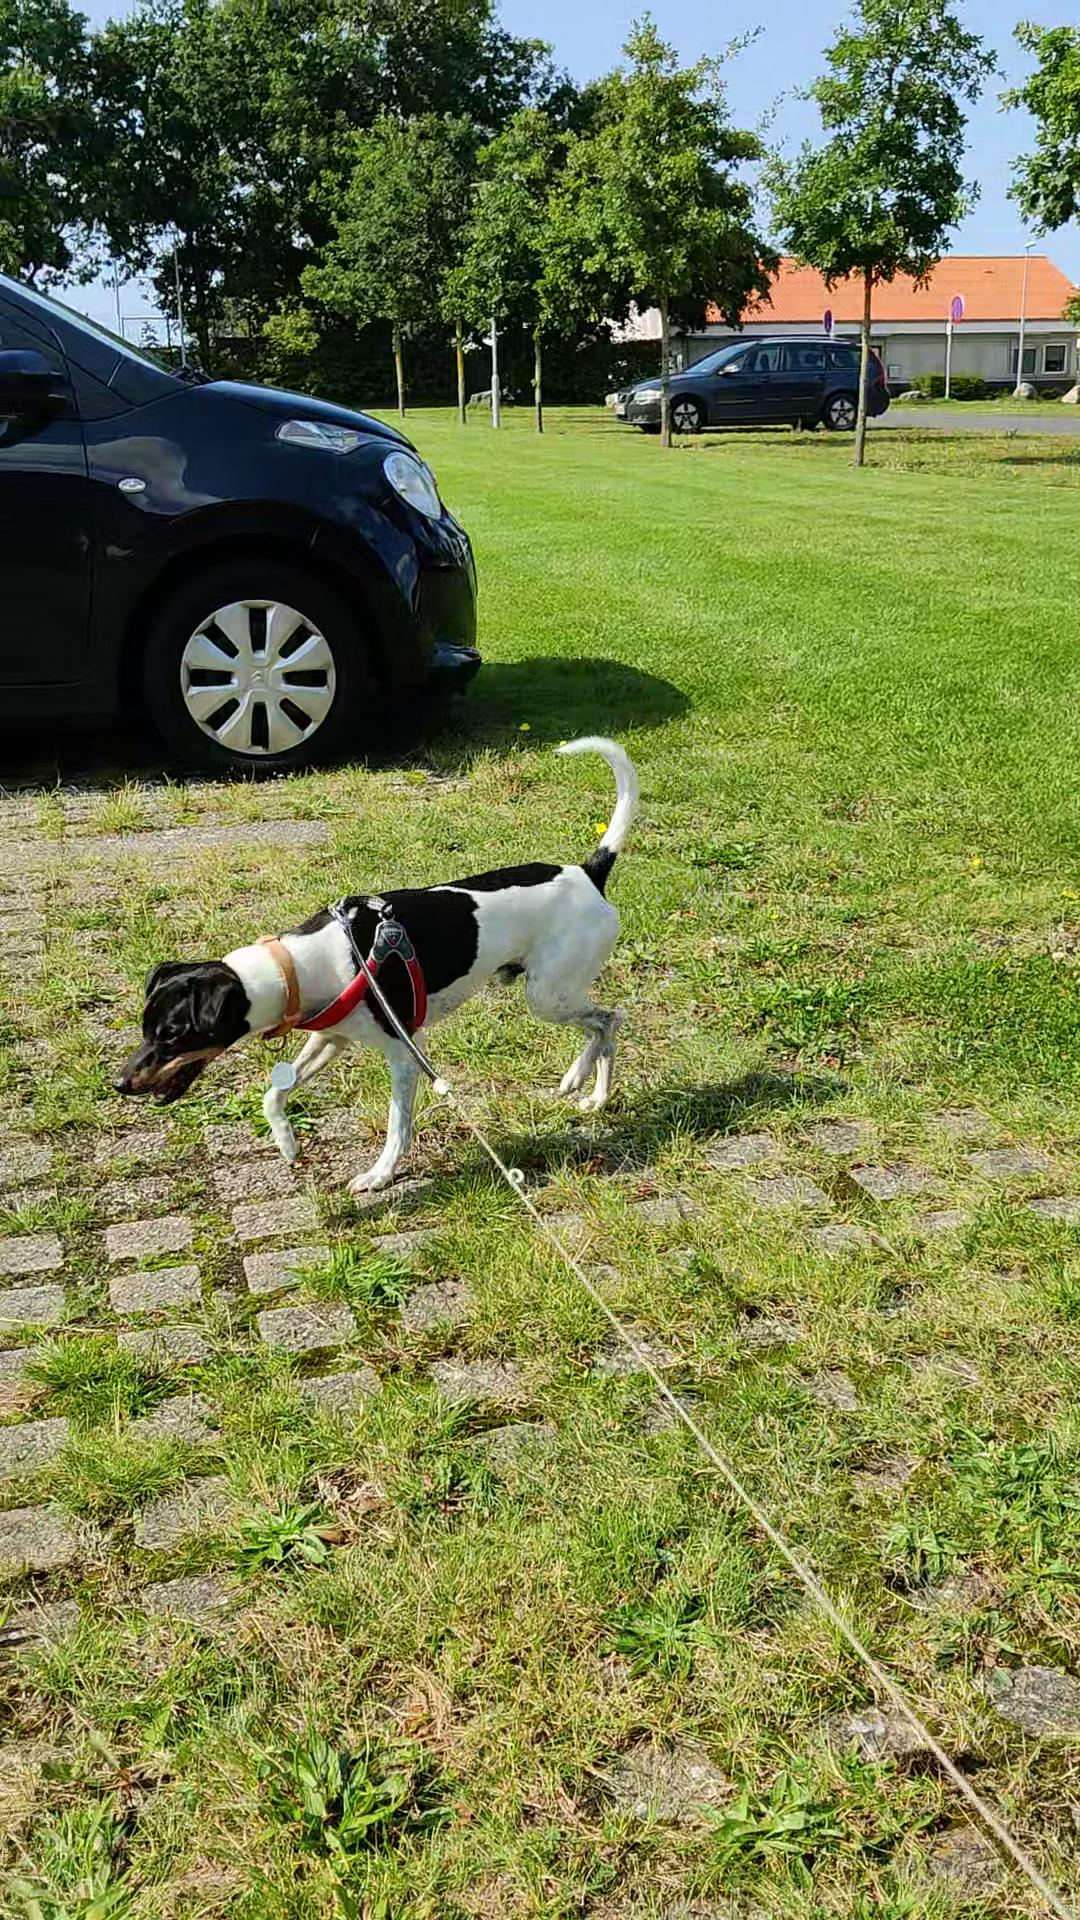Dog: (109, 733, 647, 1193)
